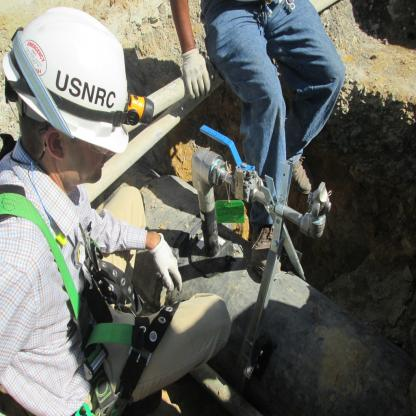Helmet: (7, 10, 101, 170)
